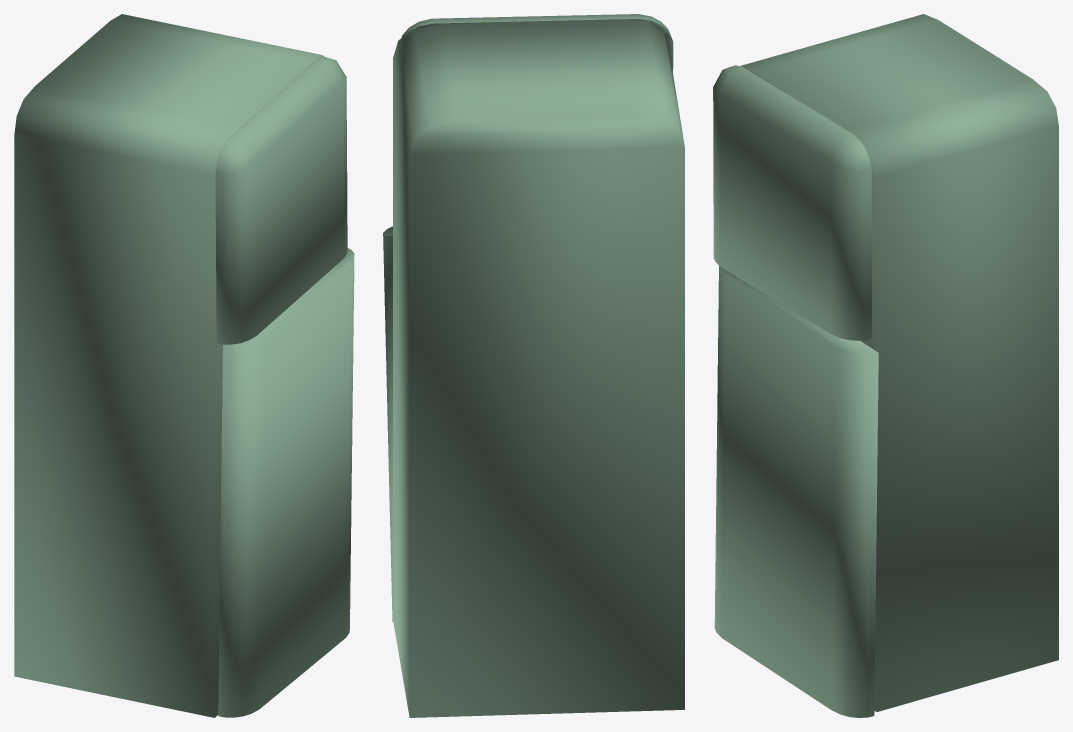
File: fridge.fbx
3 renders of one model, left to right at view 1: azimuth 30°, elevation 25°; view 2: azimuth 150°, elevation 25°; view 3: azimuth 270°, elevation 25°, orthographic. The views are drawn at different scales.
Visible parts, largest first — view 1: body_low, doors_low, doors.001_low; view 2: body_low, doors_low, doors.001_low; view 3: body_low, doors_low, doors.001_low.
Boxes of the visible parts, <box> form: body_low: <box>14,14,324,717</box>; doors_low: <box>218,248,354,717</box>; doors.001_low: <box>215,56,347,344</box>; body_low: <box>393,19,684,717</box>; doors_low: <box>383,226,393,621</box>; doors.001_low: <box>401,14,673,71</box>; body_low: <box>740,14,1058,711</box>; doors_low: <box>714,266,878,717</box>; doors.001_low: <box>713,65,871,340</box>.
Bounding box in the file's own units: 108 × 190 × 105.
